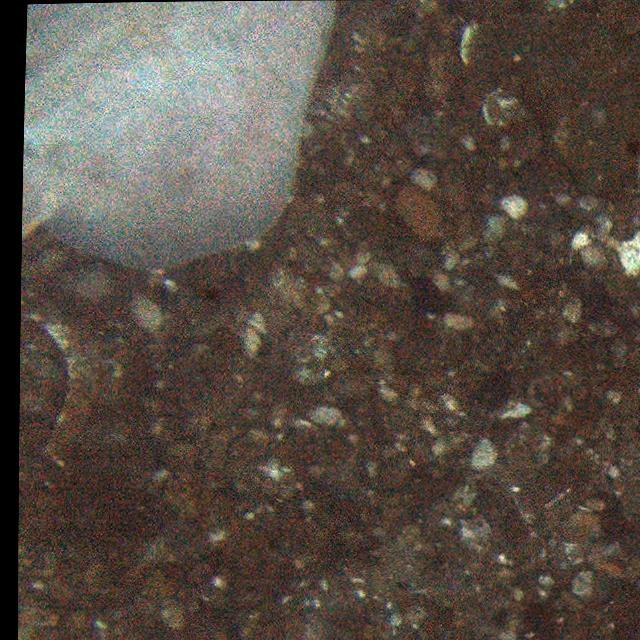skate: (29, 2, 336, 272)
